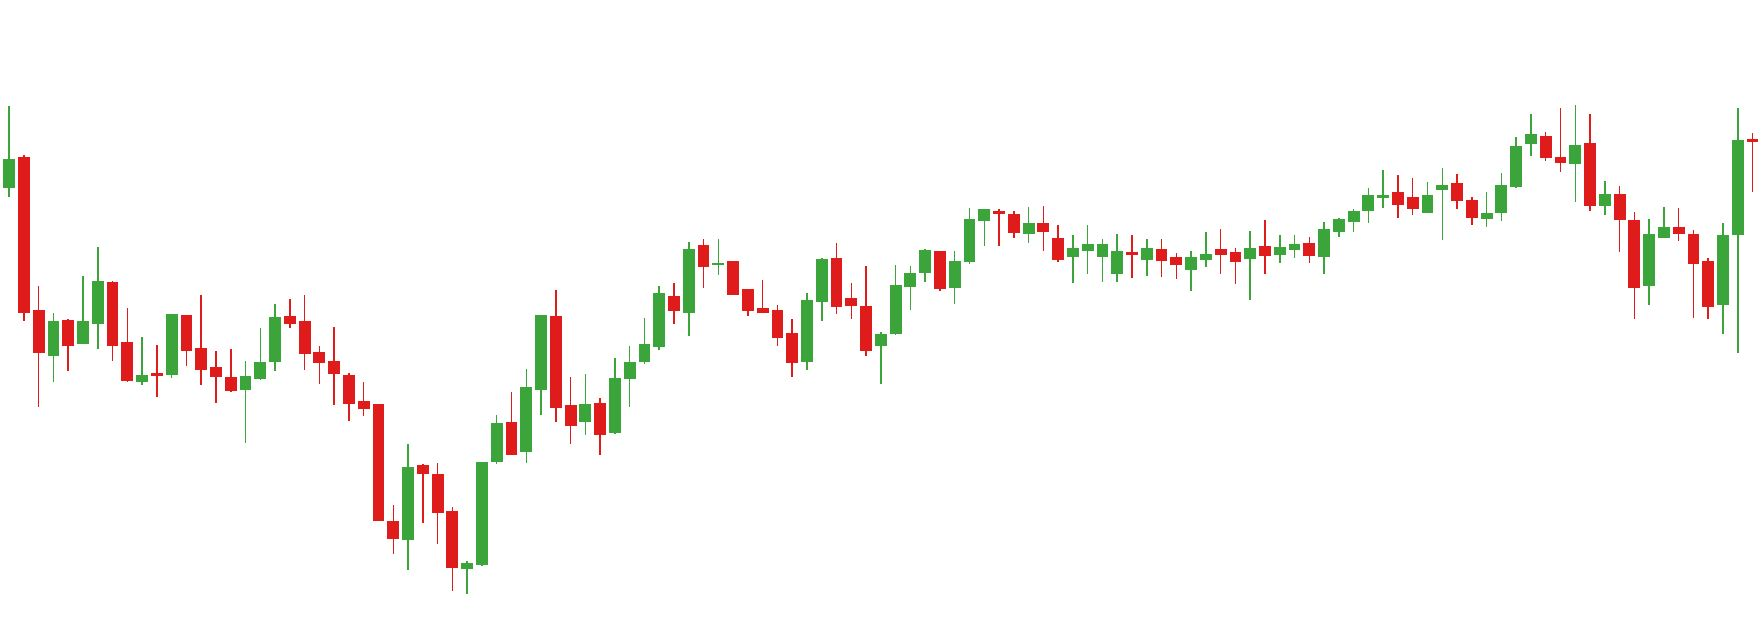buy: (1628, 235, 1731, 340), (781, 289, 888, 388)
